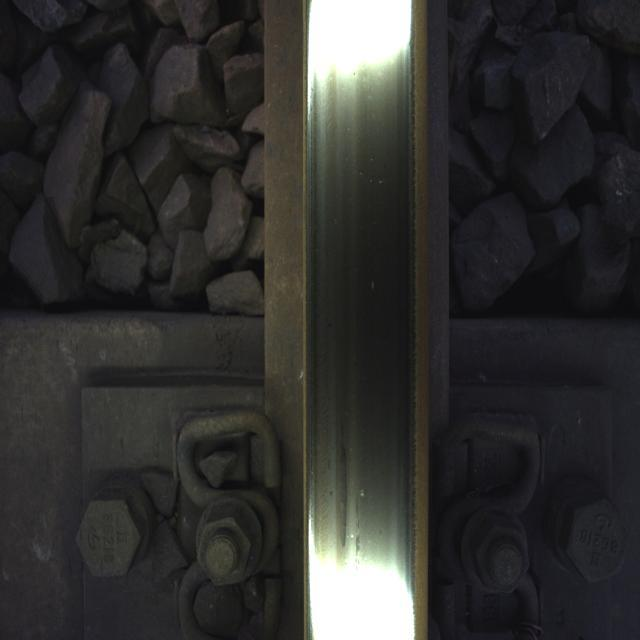break: (309, 39, 406, 560)
